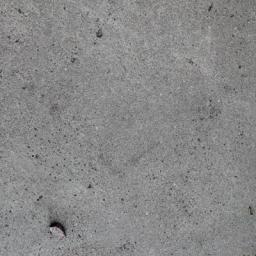FOD: (50, 220, 71, 241)
